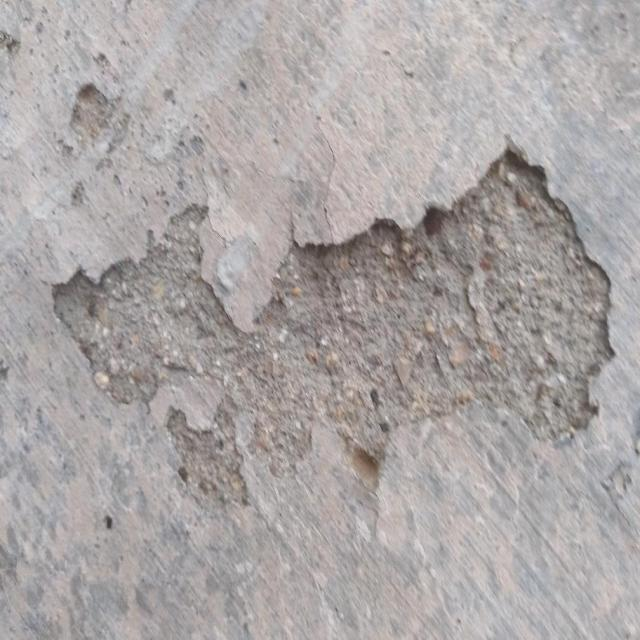concrete spalling: (49, 135, 618, 511), (71, 80, 114, 136)
vertical crack: (316, 121, 337, 240)
